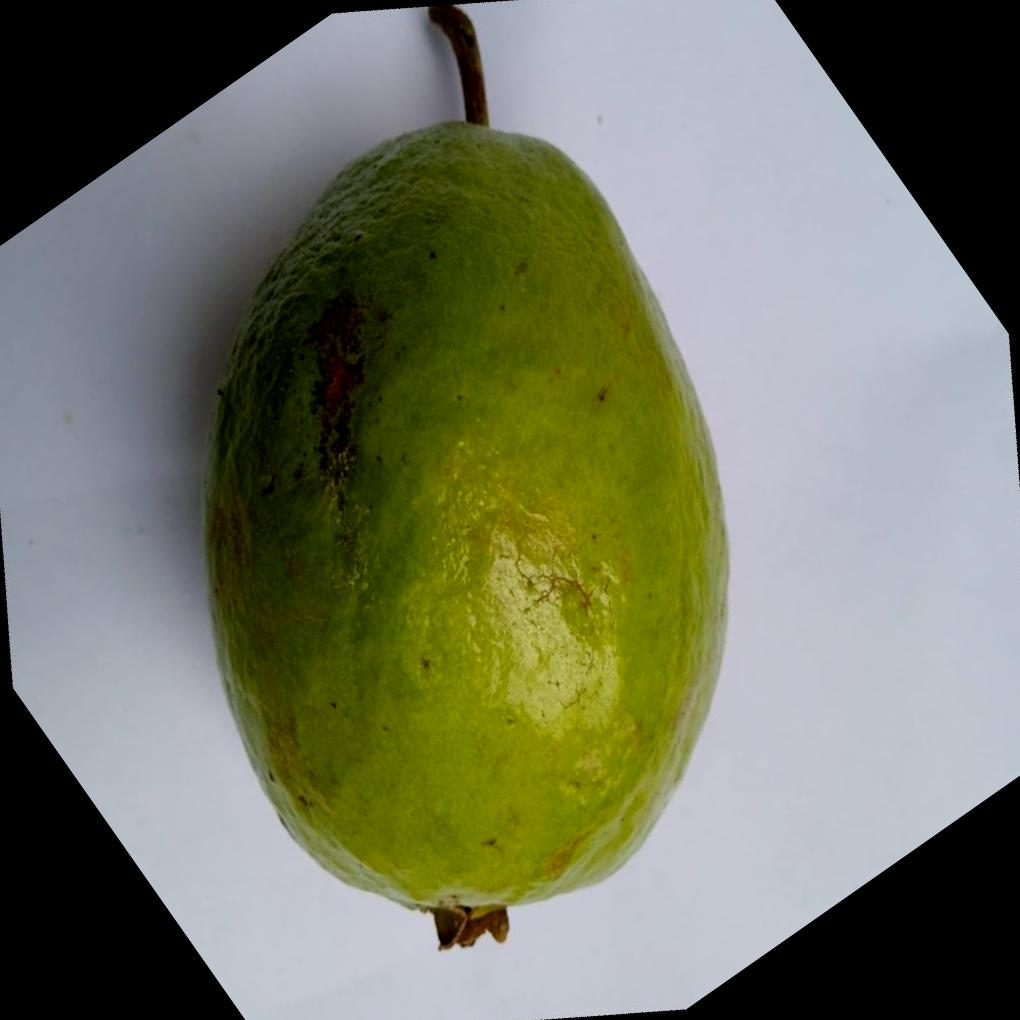FreshGuava: (199, 114, 730, 947)
